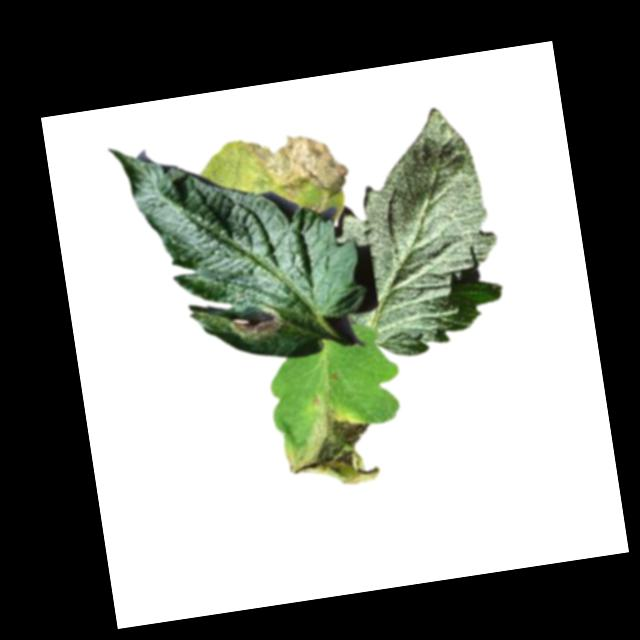Late_blight: (278, 400, 381, 495), (243, 124, 351, 206), (231, 309, 282, 338)
healthy: (320, 100, 512, 364)
